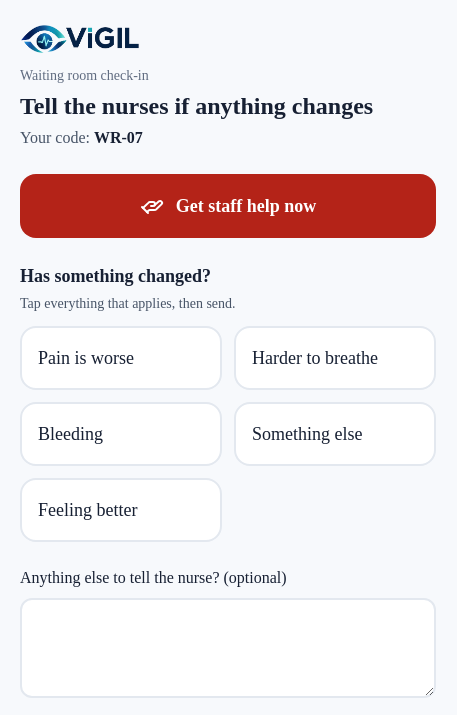
Scenario: CheckinView › stops offering resend when the code is rate limited
This screenshot has width=457, height=715.
Click the button "Pain is worse".
click(121, 358)  # box 20,326 -> 222,390
(page scrolled)
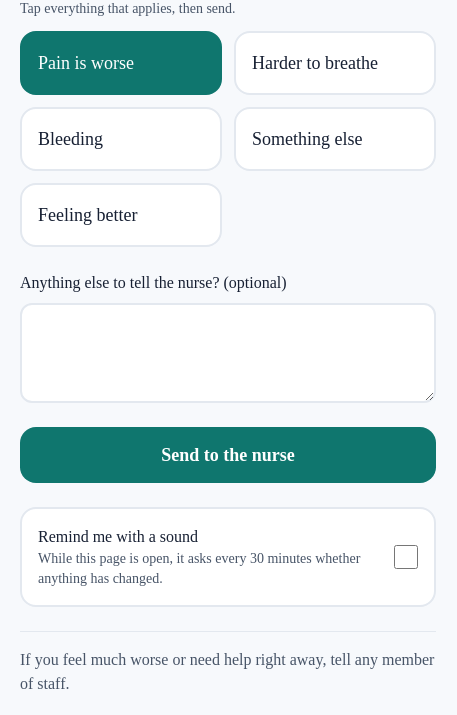
Click the button "Send to the nurse".
click(228, 455)  # box 20,427 -> 436,483
(page scrolled)
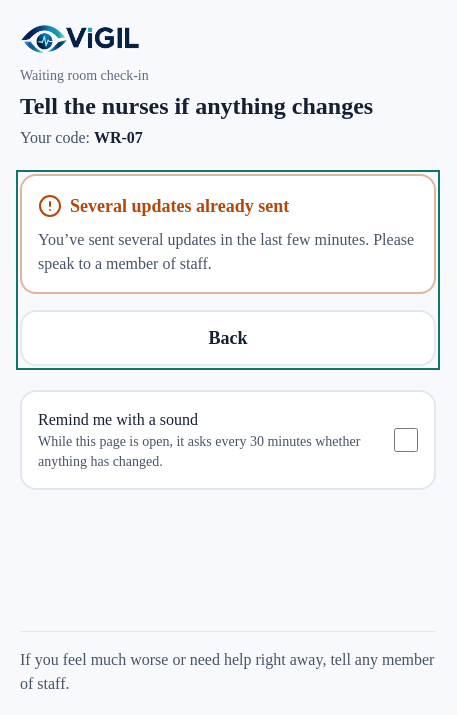
Result: the text "Several updates already sent" is shown at 38,194 -> 289,218
